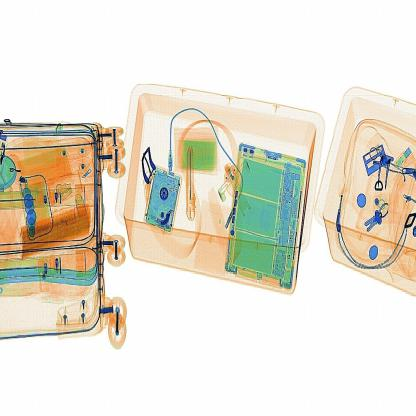pliers: (183, 144, 200, 221)
